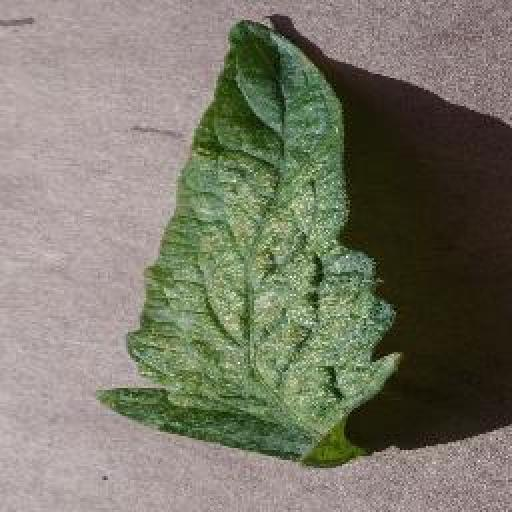disease_tomato: (94, 15, 406, 469)
